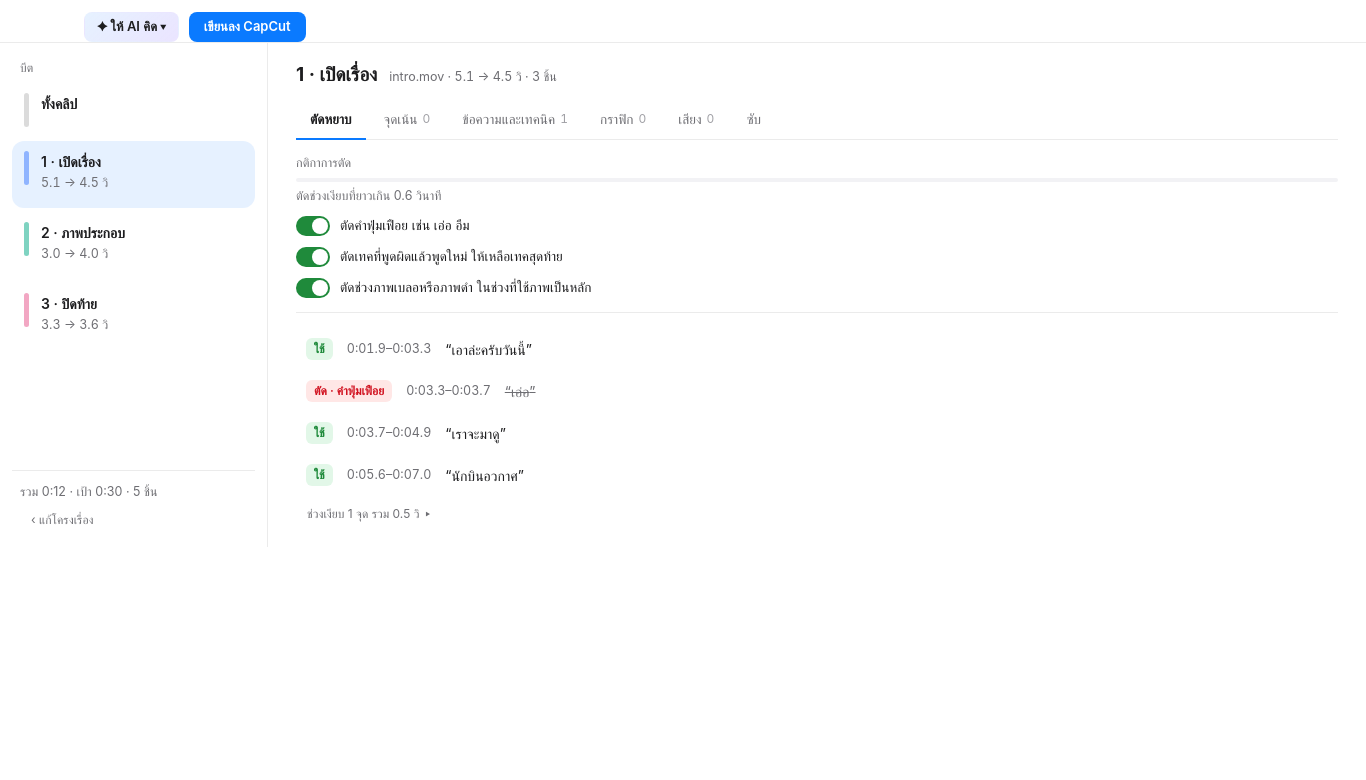
Test: choosing another beat shows that beat, and only what belongs to it
Click the tab "ข้อความและเทคนิค 1" at (515, 120), box [448,100,582,140]
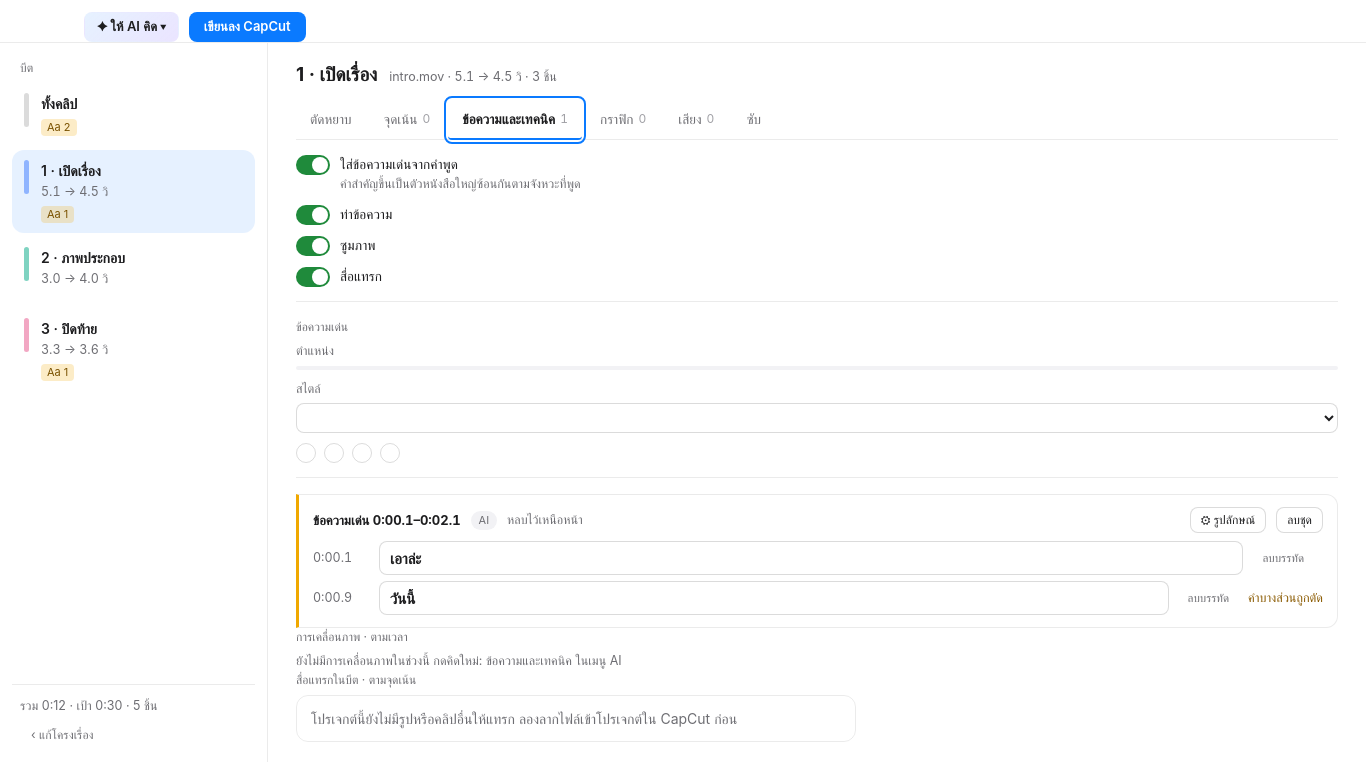
Click the button "3 · ปิดท้าย 3.3 → 3.6 วิ Aa 1" at (134, 349), box [12,308,255,391]
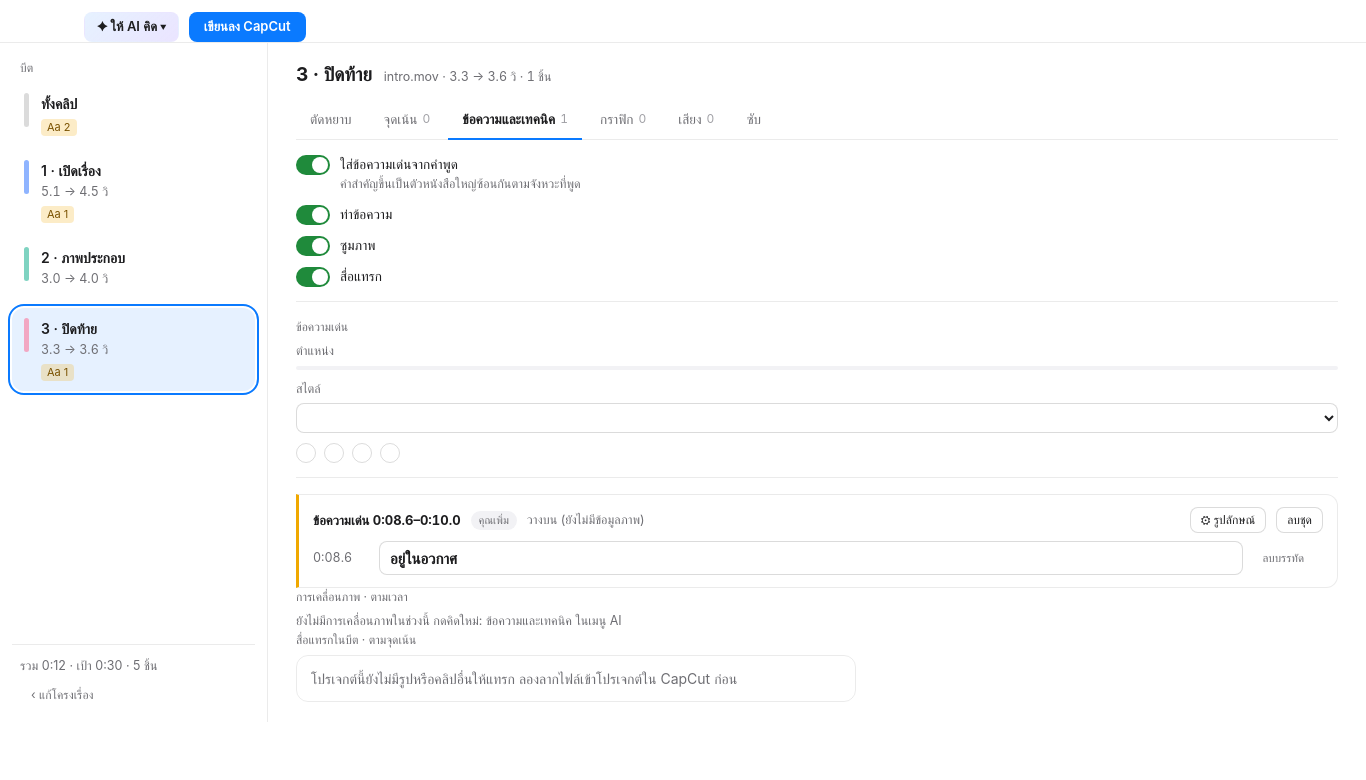
Check: the heading "3 · ปิดท้าย" is shown, box [296,61,372,90]
